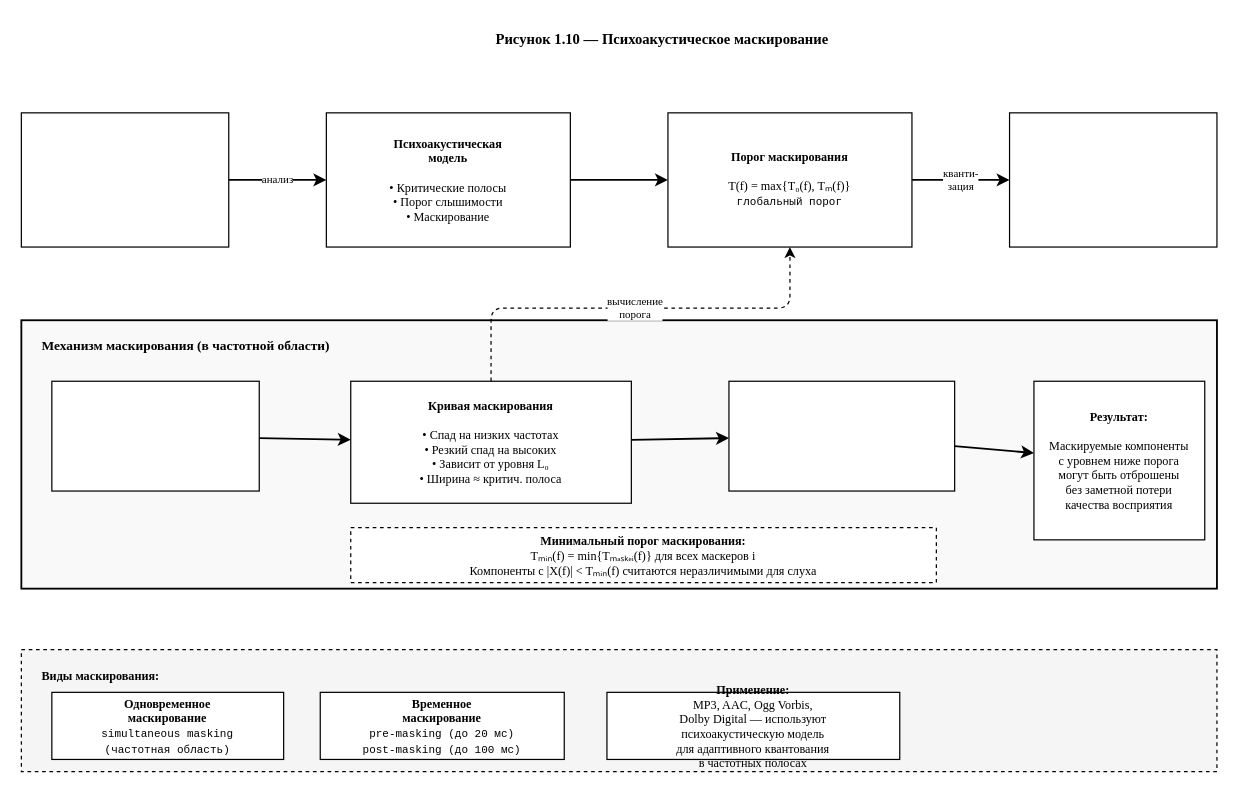
Image size: 1240x793. Some labels were removed from this diagram. The centre of each missing label's shape, as x and y in pixels:
"Квантованный спектр X̂(f) сжатые данные" belongs at [1112,179].
"Маскер (маскирующий тон) f₀ = частота маскера L₀ = уровень маскера" belongs at [155,435].
"Маскируемый (masked tone) fₘ = частота маскируемого Lₘ < T(f) → не слышен" belongs at [841,435].
"Спектр входного сигнала |X(f)| амплитудный спектр" belongs at [124,179].
